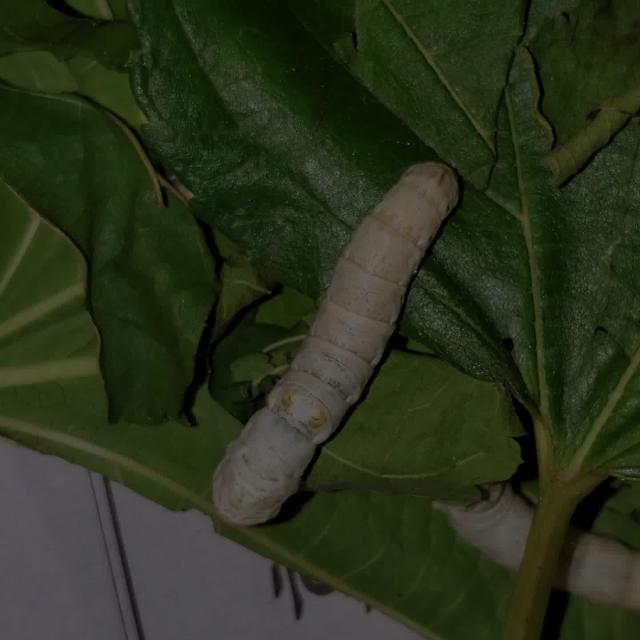Healthy: (168, 135, 486, 542)
